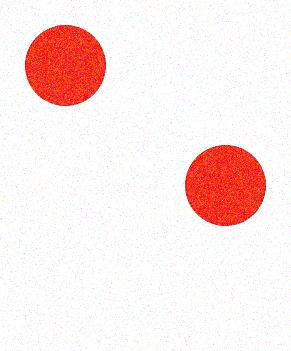E: (20, 19, 274, 333)
